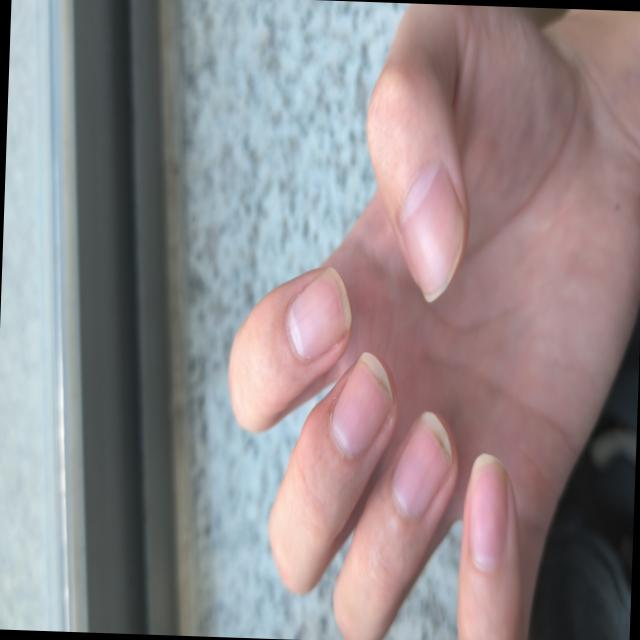Nail: (397, 160, 465, 302), (391, 411, 452, 519), (331, 353, 394, 457), (287, 265, 350, 363), (470, 454, 507, 570)
